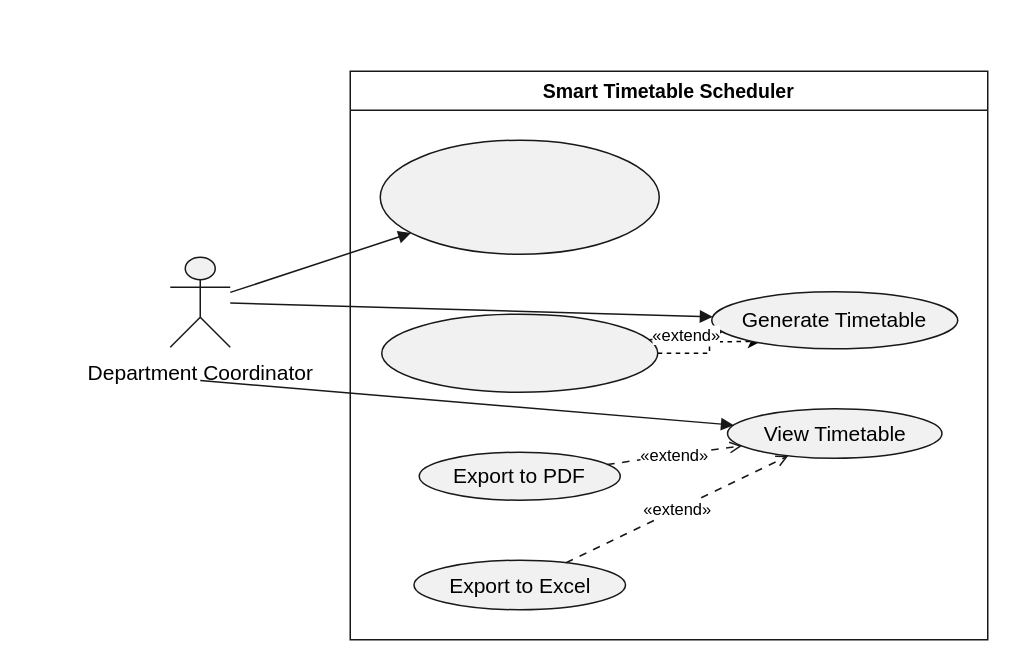
Some shapes in this 1014 by 666 pixel diagram are drawn without their labels. Here are the shapes that lost their labels. From the top down, the centre of each, then its label:
pixel 519 196: Manage Resources (Rooms, Teachers, Courses, Sections)
pixel 519 352: Show Clash & Diagnostics Report
